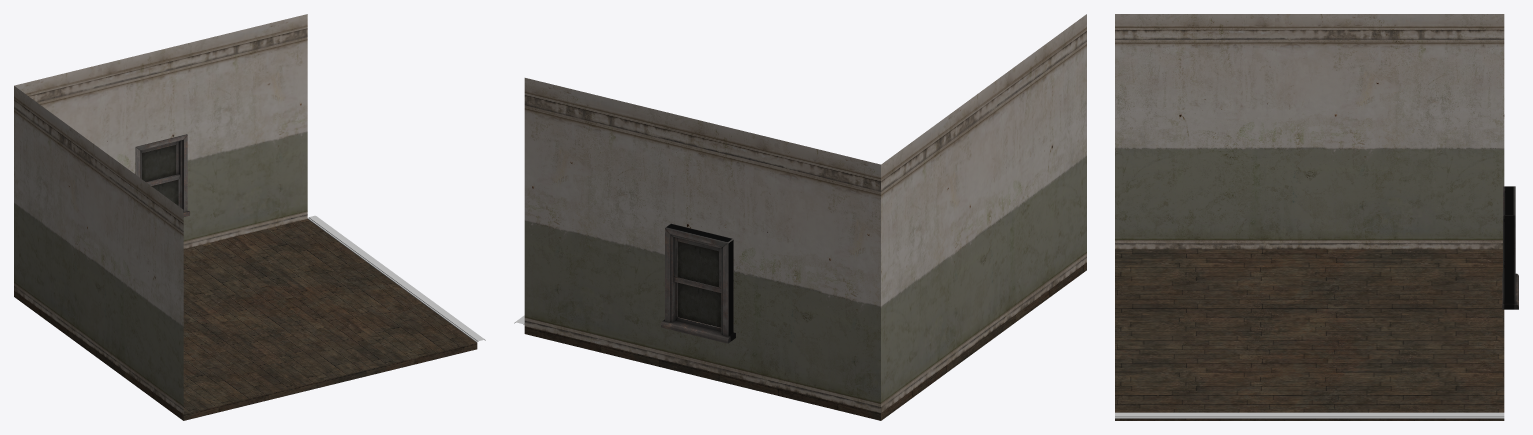
File: hallway_end_corner_window_right.fbx
The picture shows the model from 3 angles, left to right: view 1: azimuth 30°, elevation 25°; view 2: azimuth 150°, elevation 25°; view 3: azimuth 270°, elevation 25°; orthographic projection. The views are drawn at different scales.
Parts seen in each view (by area): view 1: hallway_end_corner_window_right; view 2: hallway_end_corner_window_right; view 3: hallway_end_corner_window_right.
Part boxes in pixels (x1,y1,x2,y2): hallway_end_corner_window_right: [14, 14, 485, 420]; hallway_end_corner_window_right: [514, 14, 1086, 420]; hallway_end_corner_window_right: [1115, 14, 1518, 420].
Bounding box in the file's own units: 618 × 412 × 623.
